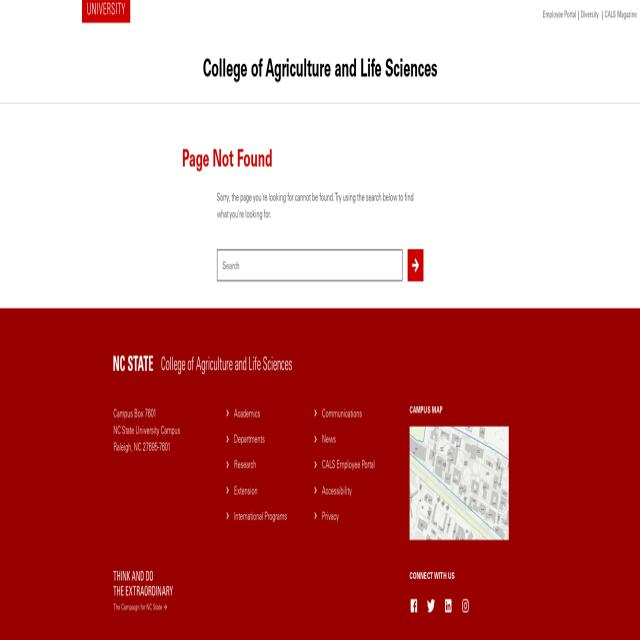button: (409, 426, 508, 540), (113, 571, 173, 596), (82, 0, 130, 23), (113, 350, 153, 376), (408, 249, 424, 282), (461, 597, 470, 615), (410, 597, 418, 615), (427, 597, 435, 615), (444, 597, 452, 615)
field: (216, 249, 402, 281)
